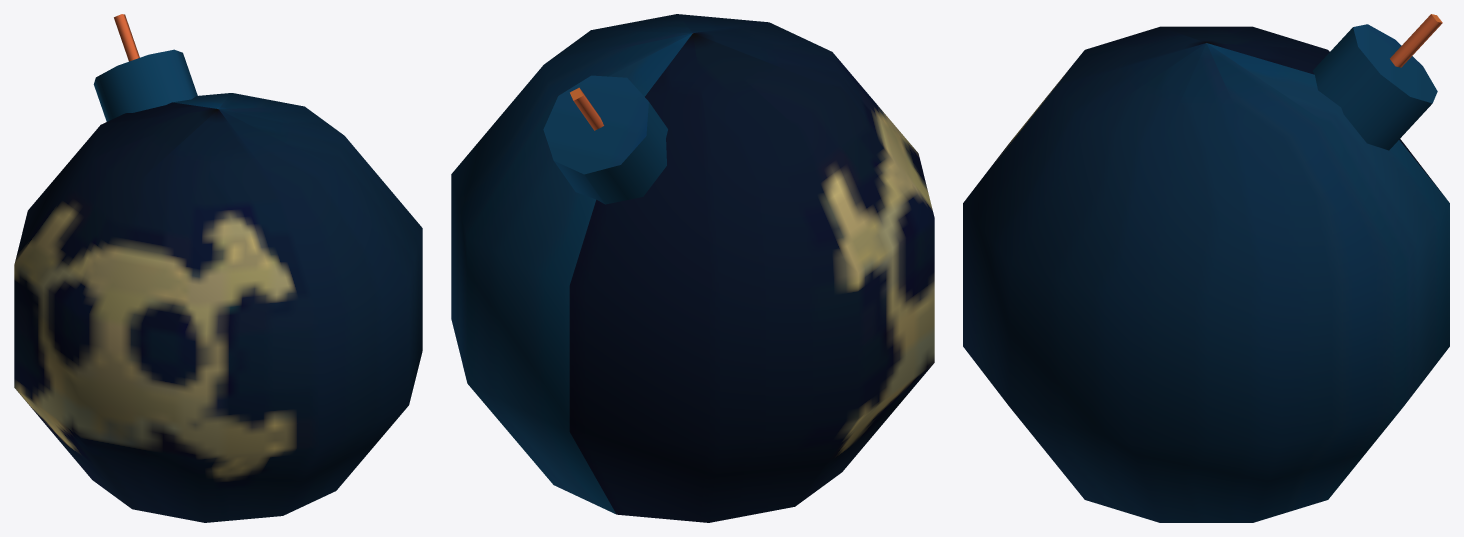
File: WeaponHand1009 (merge).fbx
3 views of the same model, side by side, from view 1: azimuth 30°, elevation 25°; view 2: azimuth 150°, elevation 25°; view 3: azimuth 270°, elevation 25° (orthographic). The views are drawn at different scales.
Parts seen in each view (by area): view 1: bomb; view 2: bomb; view 3: bomb.
Part boxes in pixels (left/top/right/bottom): bomb: left=14, top=14, right=422, bottom=522; bomb: left=451, top=14, right=934, bottom=522; bomb: left=963, top=14, right=1449, bottom=522.
Bounding box in the file's own units: 0.5427 × 0.6372 × 0.5706.
1 material, 1 textured.
